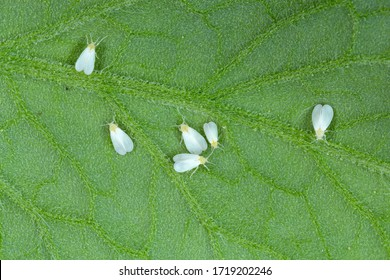Tobacco Whitefly: (165, 149, 219, 182), (78, 32, 108, 87), (169, 117, 207, 154), (107, 107, 131, 161), (198, 102, 223, 152), (314, 101, 336, 151)
